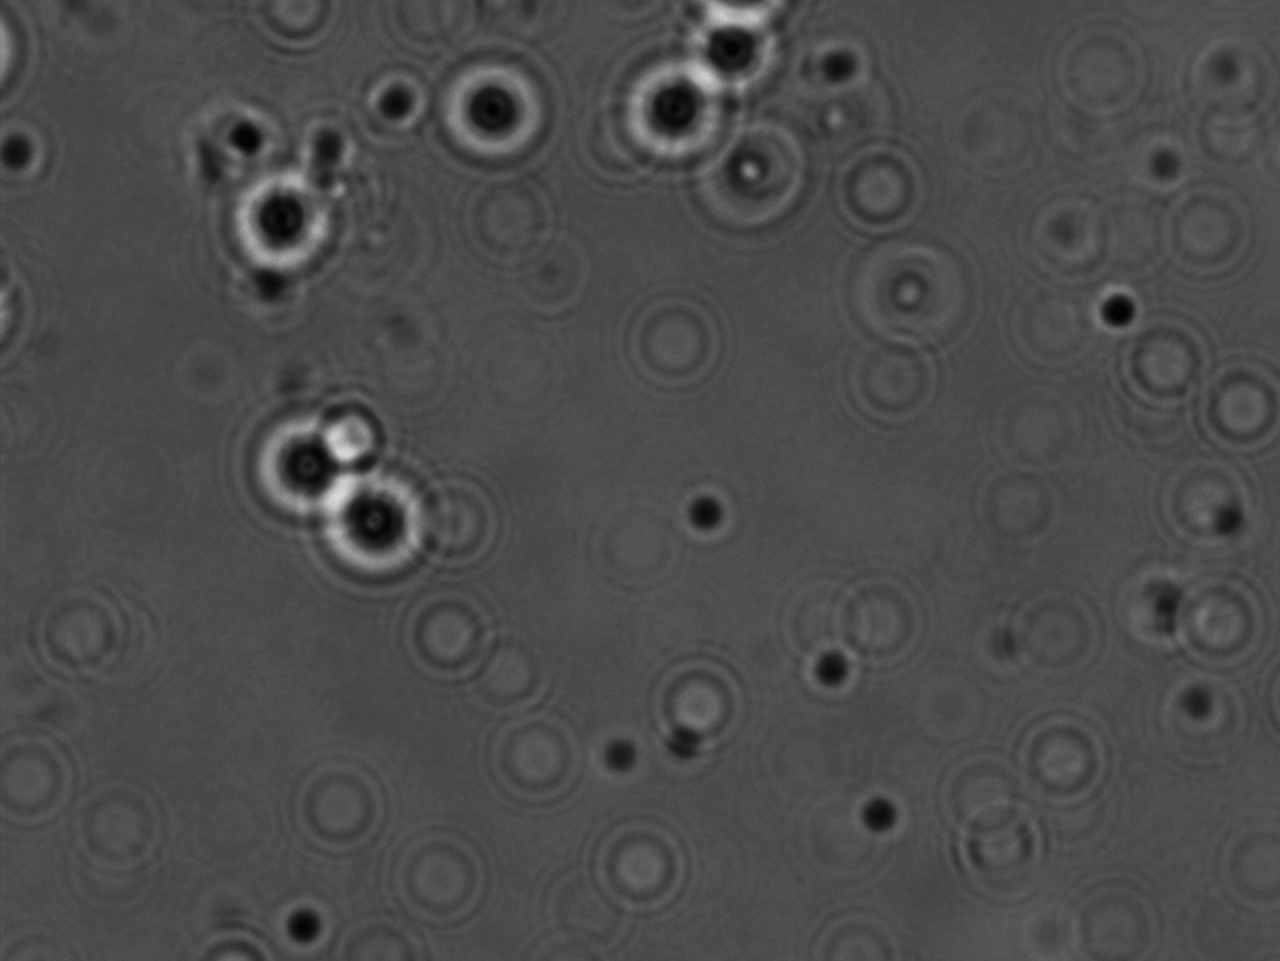depth:-16: (302, 453, 452, 591), (437, 56, 565, 182), (236, 395, 368, 515), (613, 52, 735, 178), (226, 167, 345, 288), (671, 9, 786, 112)
